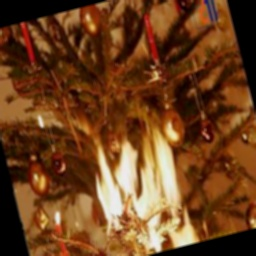fire: (84, 126, 198, 256)
